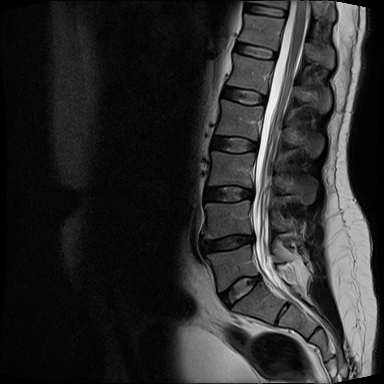Lumbar Disc Bulge (LDB): (216, 271, 263, 311), (199, 230, 257, 257)
Normal IVD: (208, 130, 260, 156), (220, 82, 269, 109), (202, 182, 255, 206), (233, 38, 279, 63), (243, 3, 289, 21)
Spinal Stenosis (SS): (247, 230, 259, 249)
